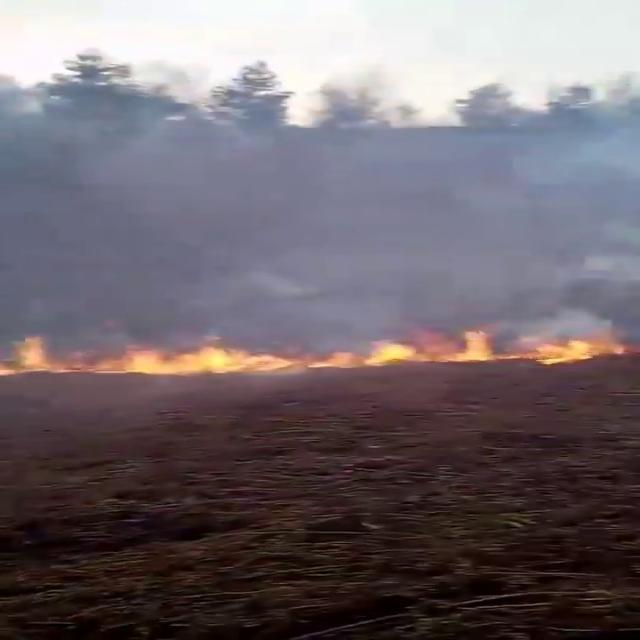Fire: (7, 313, 636, 372)
Smoke: (0, 6, 638, 336)
